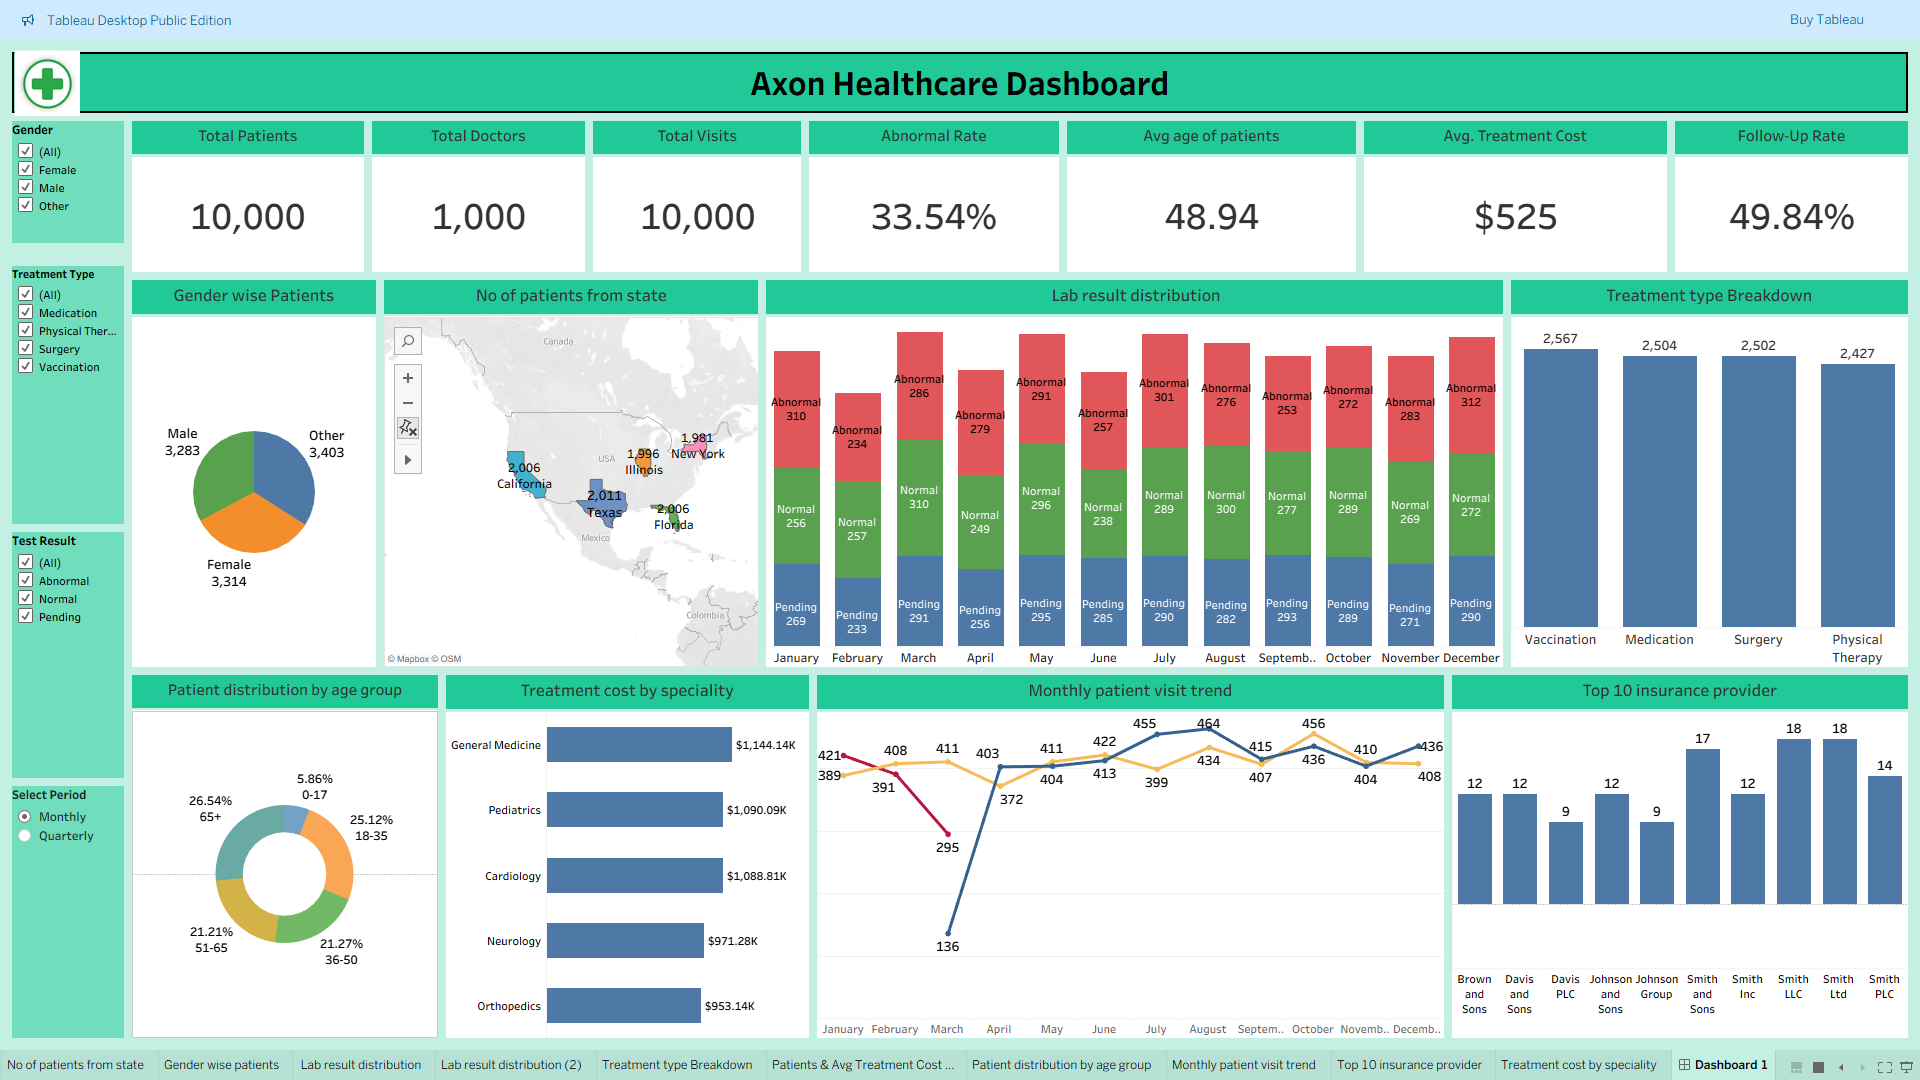

What the dashboard file says about the page in this screenshot:
{"tool":"powerbi","page":{"name":"DashBoard_2","canvas":[1280,720],"ordinal":5},"visuals":[{"type":"lineChart","title":"Monthly Patient by Visit Trend","fields":{"Category":["visit.Visit Date.Variation.Date Hierarchy.Month"],"Y":["CountNonNull(Patient.Patient_ID)"],"Series":["visit.Visit Date.Variation.Date Hierarchy.Year"]},"box":[652.5,440.7,627.7,279.5],"z":0},{"type":"group","id":"g1","title":"Group 1","box":[0,0,1280,58.8],"z":1000},{"type":"slicer","fields":{"Values":["treatments.Treatment Type"]},"box":[777.2,60.2,215,117.2],"z":2000},{"type":"slicer","fields":{"Values":["visit.Visit Date"]},"box":[1011.5,60.2,258,118.2],"z":3000},{"type":"slicer","fields":{"Values":["doctor.Specialty"]},"box":[586.9,61.3,166.6,117.2],"z":4000},{"type":"slicer","fields":{"Values":["Patient.Gender"]},"box":[219.3,60.2,160.2,117.2],"z":5000},{"type":"slicer","fields":{"Values":["Patient.Adult_Child"]},"box":[411.7,60.2,150.5,118.2],"z":6000},{"type":"columnChart","title":"Total No. of Patients by Month","fields":{"Category":["visit.Visit Date.Variation.Date Hierarchy.Month"],"Y":["CountNonNull(Patient.Patient_ID)"]},"box":[0,440.7,652.5,279.5],"z":7000},{"type":"columnChart","title":"Lab Result Distribution","fields":{"Category":["lab_result.Test Date.Variation.Date Hierarchy.Month"],"Y":["CountNonNull(lab_result.Visit ID)"],"Series":["lab_result.Test Result"]},"box":[704.1,184.9,576.2,255.8],"z":8000},{"type":"shape","box":[0,0,1280,58.8],"z":9000,"group":"g1"},{"type":"treemap","title":"Treatment Type breakdown","fields":{"Group":["treatments.Treatment Type"],"Values":["CountNonNull(Patient.Patient_ID)"]},"box":[326.3,185,377.3,255.7],"z":9000},{"type":"image","box":[0,0,72.5,58.8],"z":10000,"group":"g1"},{"type":"actionButton","box":[10.7,65.6,182.7,106.4],"z":10000},{"type":"filledMap","title":"No. of Patients From State","fields":{"Category":["Patient.State"],"Series":["Patient.Patient_ID"]},"box":[0,185,326.3,255.7],"z":11000}]}

Visuals, with their boxes on the page's 1280x720 design canvas (x1, y1, x2, y2). These are canvas units, not pixel positions in the 1920x1080 screenshot, which may show the page scaled, cropped or inside an application window:
"Monthly Patient by Visit Trend" lineChart: {"left": 652, "top": 441, "right": 1280, "bottom": 720}
"Group 1" group: {"left": 0, "top": 0, "right": 1280, "bottom": 59}
slicer - treatments.Treatment Type: {"left": 777, "top": 60, "right": 992, "bottom": 177}
slicer - visit.Visit Date: {"left": 1012, "top": 60, "right": 1270, "bottom": 178}
slicer - doctor.Specialty: {"left": 587, "top": 61, "right": 754, "bottom": 178}
slicer - Patient.Gender: {"left": 219, "top": 60, "right": 380, "bottom": 177}
slicer - Patient.Adult_Child: {"left": 412, "top": 60, "right": 562, "bottom": 178}
"Total No. of Patients by Month" columnChart: {"left": 0, "top": 441, "right": 652, "bottom": 720}
"Lab Result Distribution" columnChart: {"left": 704, "top": 185, "right": 1280, "bottom": 441}
shape: {"left": 0, "top": 0, "right": 1280, "bottom": 59}
"Treatment Type breakdown" treemap: {"left": 326, "top": 185, "right": 704, "bottom": 441}
image: {"left": 0, "top": 0, "right": 72, "bottom": 59}
actionButton: {"left": 11, "top": 66, "right": 193, "bottom": 172}
"No. of Patients From State" filledMap: {"left": 0, "top": 185, "right": 326, "bottom": 441}
